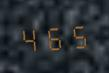five: (67, 19, 90, 50)
four: (18, 22, 41, 53)
six: (43, 20, 66, 52)
